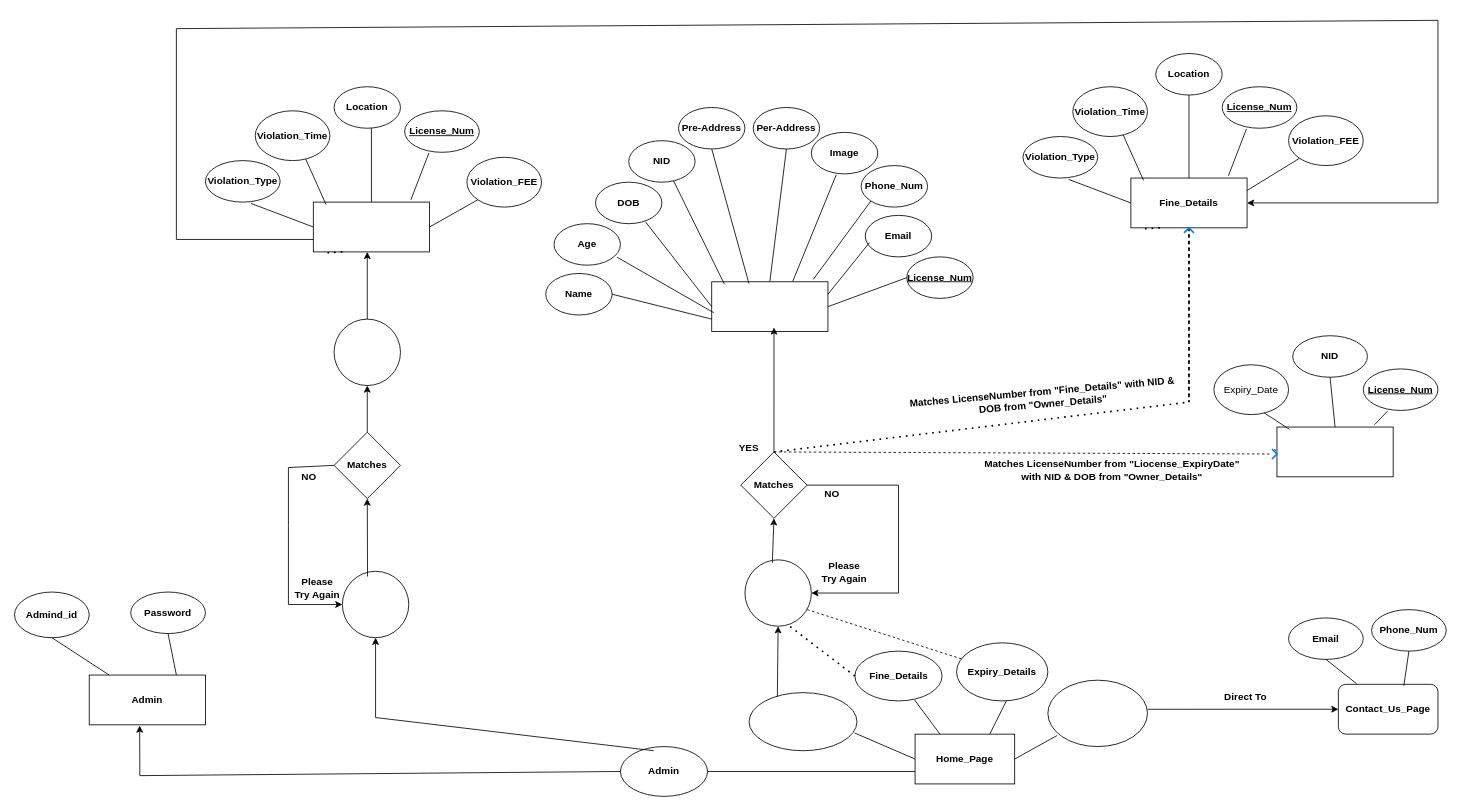
This 1461x811 diagram has some shape labels left out. Here are the shapes that lost their labels. From the top down, the centre of each, then its label:
At point 371,226: "Fine_Details_FORM".
At point 769,306: "Owner_Details".
At point 366,352: "Can OVER-WRITE".
At point 1334,451: "License_ExpiryDate".
At point 375,604: "Enter ID & Password".
At point 777,592: "Enter NID & DOB".
At point 802,721: "EnterLicense Number".
At point 1097,713: "Contact_Us".
